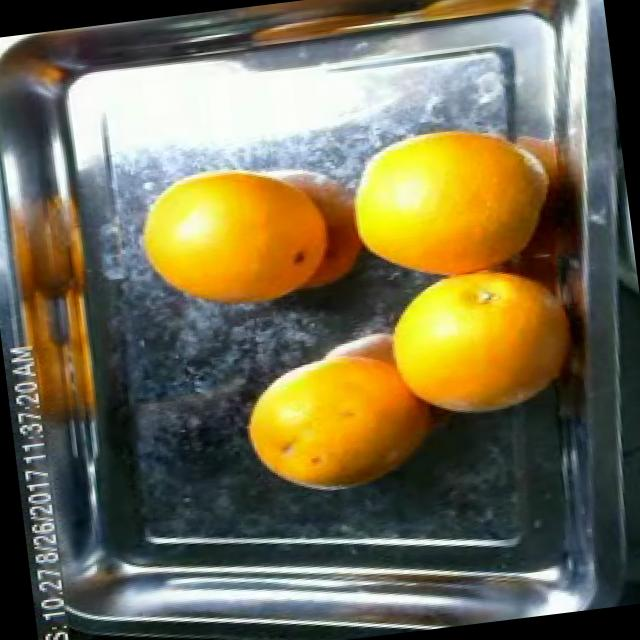Fruit: (219, 327, 448, 515), (117, 150, 326, 330)
